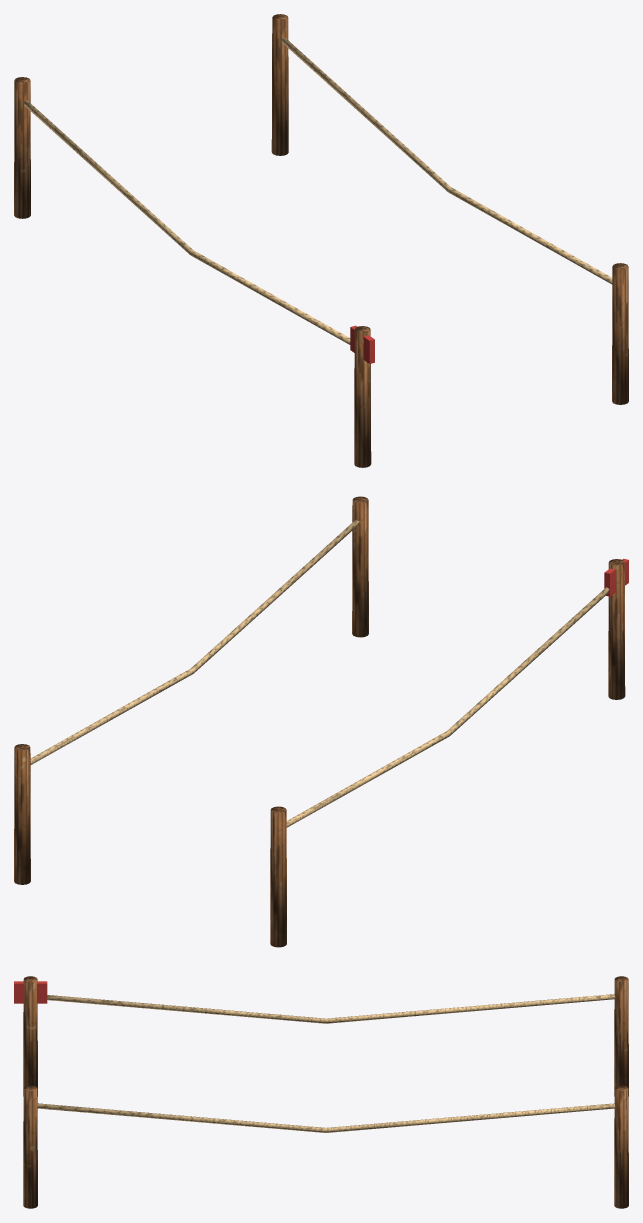
The model's file is bridge_marker.glb.
3 renders of one model, top to bottom at view 1: azimuth 30°, elevation 25°; view 2: azimuth 150°, elevation 25°; view 3: azimuth 270°, elevation 25°, orthographic. The views are drawn at different scales.
Parts seen in each view (by area): view 1: BridgeMarker; view 2: BridgeMarker; view 3: BridgeMarker.
Part boxes in pixels (x1,y1,x2,y2): BridgeMarker: (14,14,628,467); BridgeMarker: (14,496,628,947); BridgeMarker: (14,976,628,1208).
Bounding box in the file's own units: 1.48 × 0.7 × 3.33.
Materials: 1 (1 with a texture image).
